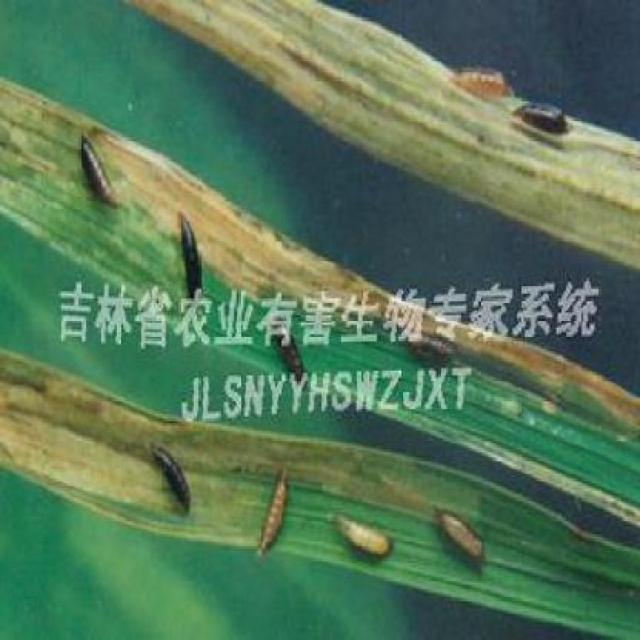whorl-maggot: (322, 494, 400, 569), (426, 496, 496, 578), (66, 136, 131, 216), (145, 442, 201, 526), (250, 463, 295, 566), (509, 85, 578, 143), (447, 61, 513, 105), (172, 206, 208, 286)
